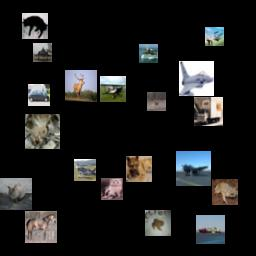airplane: (176, 151, 211, 186), (179, 61, 214, 96), (100, 76, 126, 102), (74, 159, 96, 181), (33, 43, 52, 62)
automobile: (28, 84, 50, 106)
cat: (0, 178, 32, 210), (22, 13, 48, 39), (126, 156, 152, 182), (101, 178, 123, 200)
deer: (65, 70, 97, 102), (147, 92, 166, 111), (205, 27, 224, 46)
frog: (25, 114, 60, 149), (212, 179, 238, 205), (145, 210, 171, 236)
ship: (196, 215, 225, 244), (139, 44, 158, 63)
truck: (194, 97, 223, 126)
